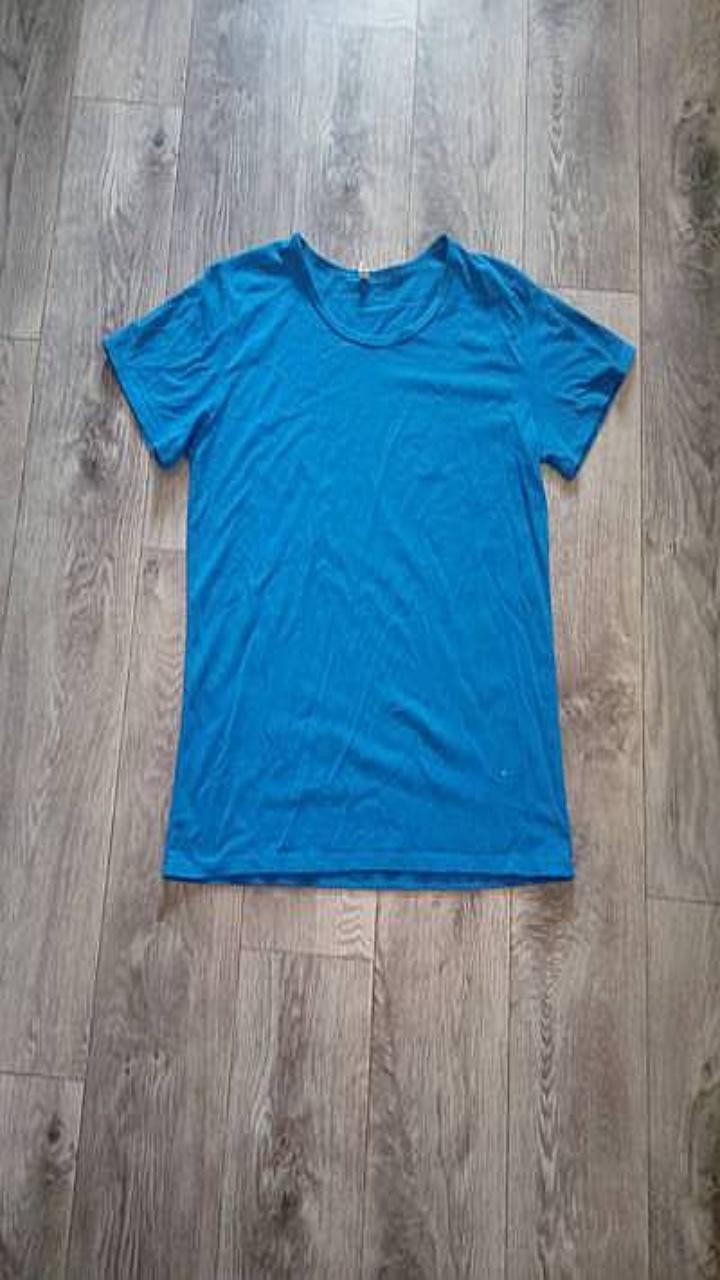T-Shirt: (102, 231, 634, 888)
